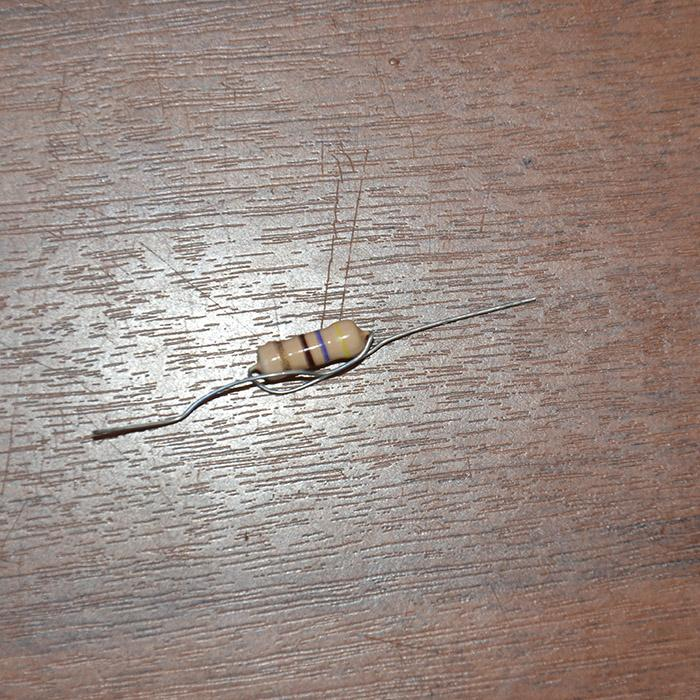resistor: (249, 318, 372, 377)
